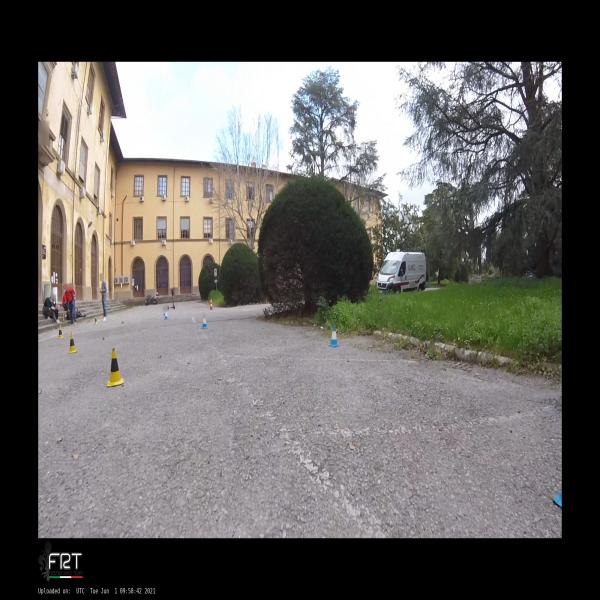blue_cone: (328, 325, 341, 348), (200, 313, 208, 329), (164, 310, 168, 320)
large_orange_cone: (209, 298, 214, 311)
unknown_cone: (62, 313, 65, 322)
yellow_cone: (107, 348, 124, 388), (68, 332, 77, 354), (58, 325, 63, 339), (94, 316, 98, 325)
